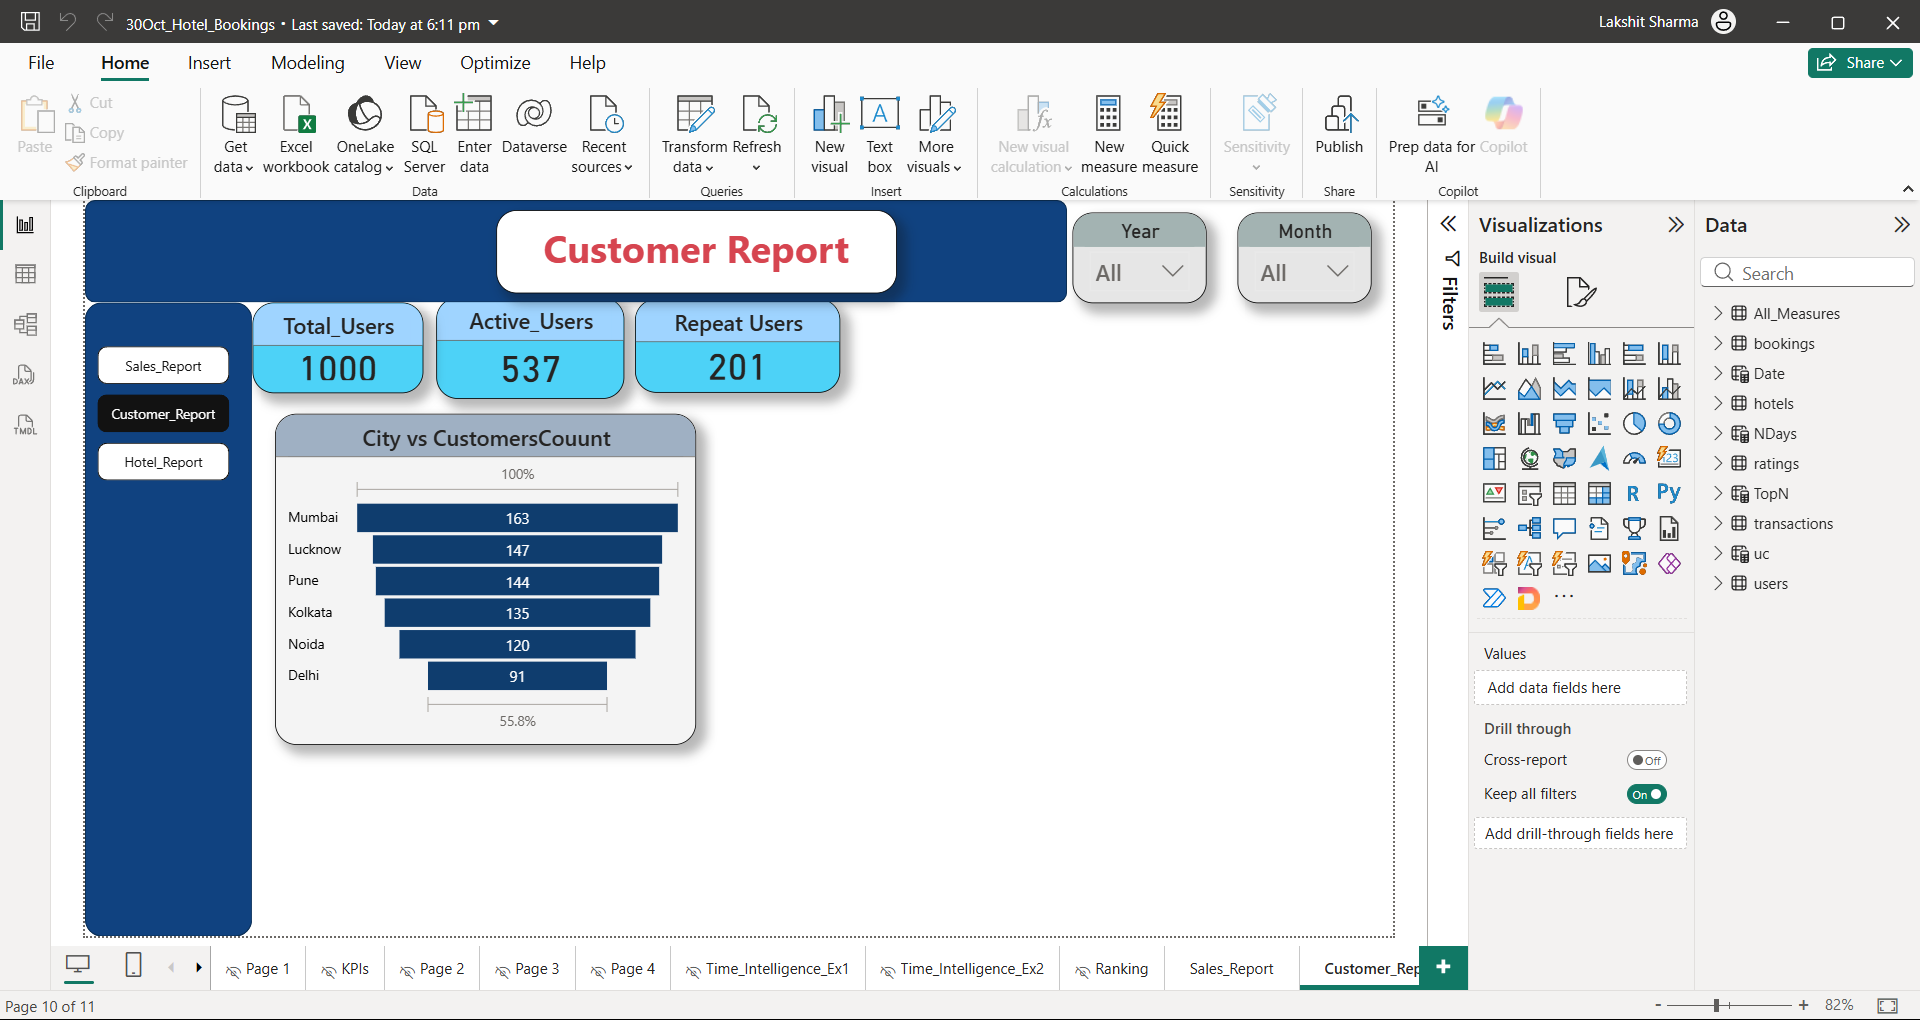

This screenshot's page, from the dashboard's own definition file:
{"tool":"powerbi","page":{"name":"Customer_Report","canvas":[1280,720],"ordinal":9},"visuals":[{"type":"card","title":"Active_Users","fields":{"Values":["All_Measures.Active_Users"]},"box":[344.1,95.4,184,98.8],"z":0},{"type":"slicer","title":"Year","fields":{"Values":["Date.Date.Variation.Date Hierarchy.Year"]},"box":[966,11.9,131.2,88.6],"z":1000},{"type":"slicer","title":"Month","fields":{"Values":["Date.Date.Variation.Date Hierarchy.Quarter"]},"box":[1127.8,11.9,131.2,88.6],"z":2000},{"type":"card","title":"Repeat Users","fields":{"Values":["All_Measures.Repeat_Users"]},"box":[538.4,97.1,201,92],"z":3000},{"type":"shape","box":[0,0,960.7,100.2],"z":7000},{"type":"card","title":"Total_Users","fields":{"Values":["All_Measures.Total_Users"]},"box":[163.6,100.5,167,88.6],"z":8000},{"type":"shape","box":[0,100.5,163.6,620.1],"z":9000},{"type":"textbox","box":[402.1,10.2,391.8,81.8],"z":10000},{"type":"funnel","title":"City vs CustomersCouunt","fields":{"Category":["hotels.city"],"Y":["CountNonNull(bookings.user_id)"]},"box":[185.7,209.5,412.3,323.7],"z":15000},{"type":"pageNavigator","box":[11.9,143.1,129.5,131.2],"z":16001}]}

Visuals, with their boxes on the page's 1280x720 design canvas (x1, y1, x2, y2). These are canvas units, not pixel positions in the 1920x1020 screenshot, which may show the page scaled, cropped or inside an application window:
"Active_Users" card: bbox=[344, 95, 528, 194]
"Year" slicer: bbox=[966, 12, 1097, 100]
"Month" slicer: bbox=[1128, 12, 1259, 100]
"Repeat Users" card: bbox=[538, 97, 739, 189]
shape: bbox=[0, 0, 961, 100]
"Total_Users" card: bbox=[164, 100, 331, 189]
shape: bbox=[0, 100, 164, 721]
textbox: bbox=[402, 10, 794, 92]
"City vs CustomersCouunt" funnel: bbox=[186, 210, 598, 533]
pageNavigator: bbox=[12, 143, 141, 274]
